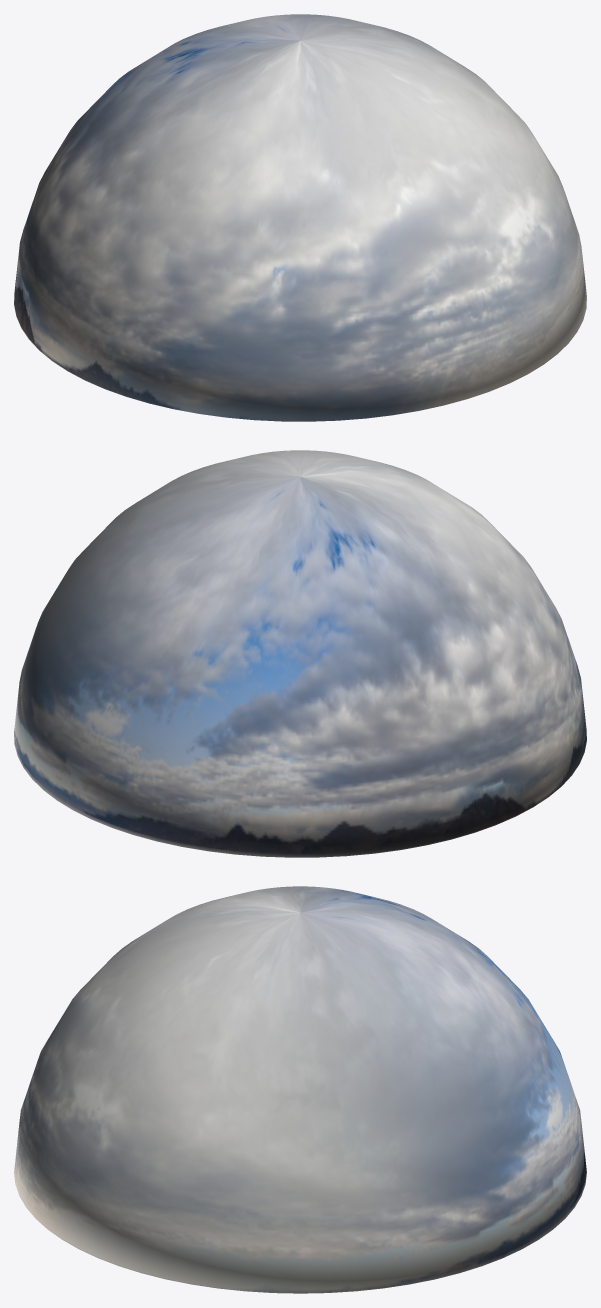
File: Dome.glb
3 renders of one model, top to bottom at view 1: azimuth 30°, elevation 25°; view 2: azimuth 150°, elevation 25°; view 3: azimuth 270°, elevation 25°, orthographic.
Parts seen in each view (by area): view 1: Sphere; view 2: Sphere; view 3: Sphere.
Part boxes in pixels (x1,y1,x2,y2): Sphere: (14, 14, 586, 421); Sphere: (14, 450, 586, 857); Sphere: (14, 886, 586, 1293).
Size of the model in its own units: 40 by 20 by 40.
Materials: 1 (1 with a texture image).
